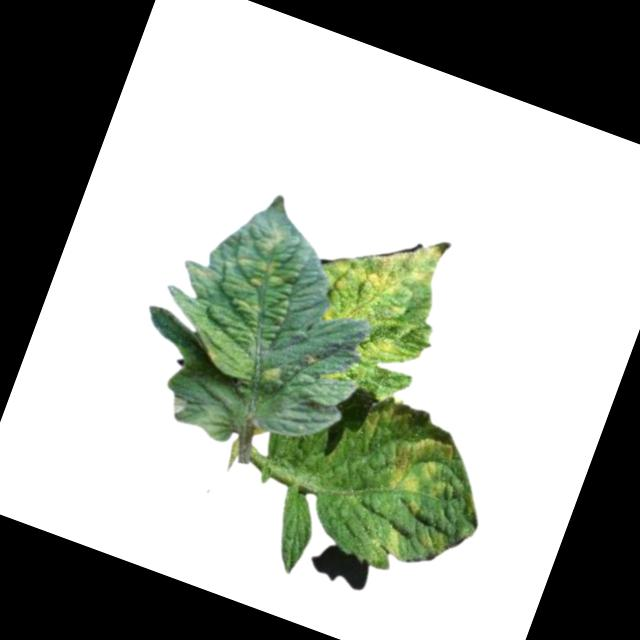Leaf_Mold: (151, 197, 321, 388), (311, 210, 454, 374), (381, 427, 469, 514), (379, 520, 410, 559)
